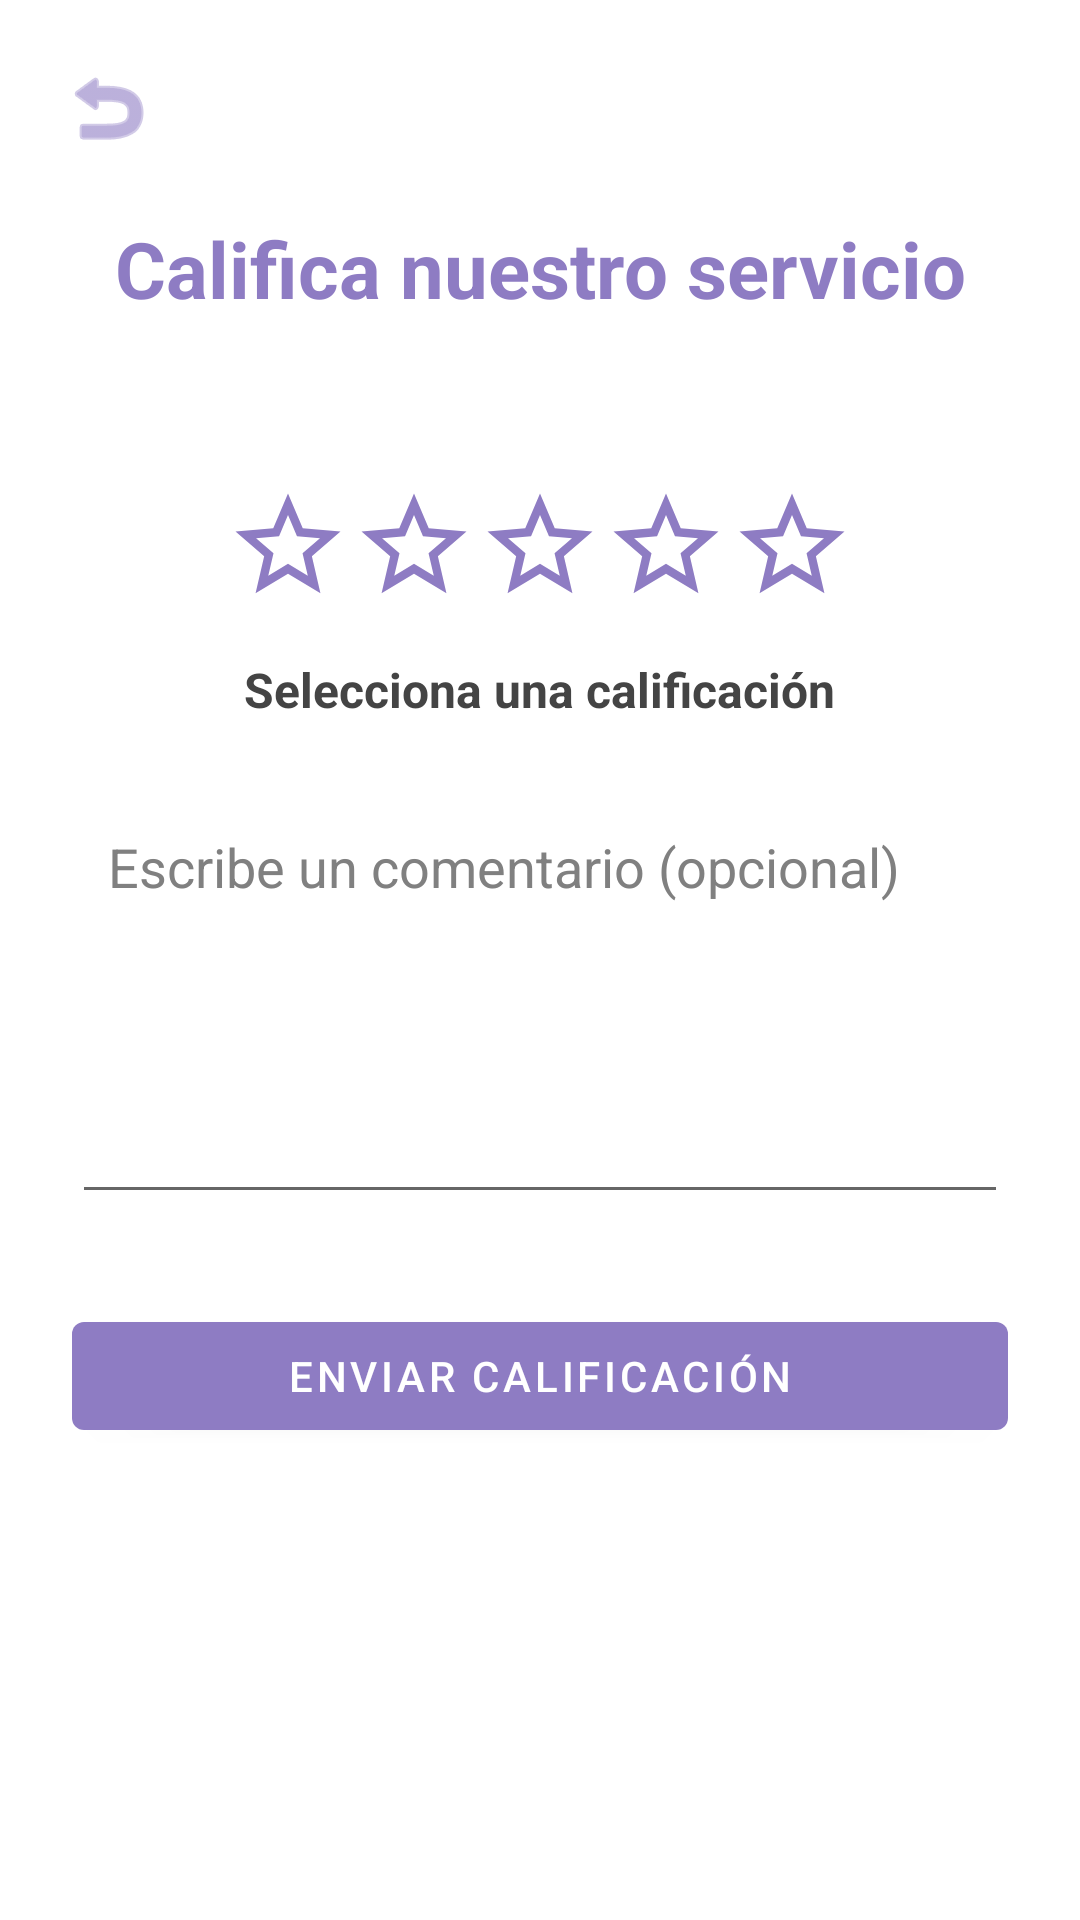

Named icons in this screenshot (1080px×1920px) and their centers, (x=x, y=y):
Regresar: (x=109, y=109)
star empty: (x=288, y=543), (x=414, y=543), (x=540, y=543), (x=666, y=543), (x=792, y=543)
